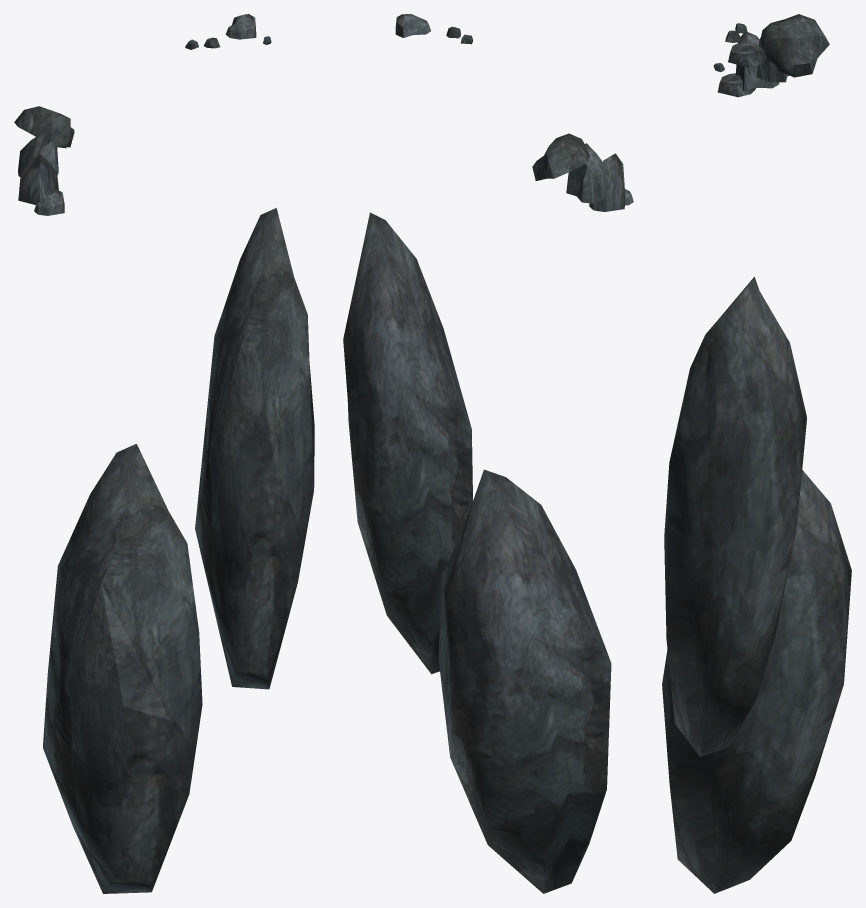
The model's file is object_rubble27.fbx.
3 renders of one model, left to right at view 1: azimuth 30°, elevation 25°; view 2: azimuth 150°, elevation 25°; view 3: azimuth 270°, elevation 25°, orthographic. The views are drawn at different scales.
Parts seen in each view (by area): view 1: object_rubble27-0; view 2: object_rubble27-0; view 3: object_rubble27-0.
Part boxes in pixels (x1,y1,x2,y2): object_rubble27-0: [14, 14, 314, 893]; object_rubble27-0: [343, 14, 633, 893]; object_rubble27-0: [662, 14, 851, 893].
Size of the model in its own units: 12.23 by 34.36 by 6.51.
